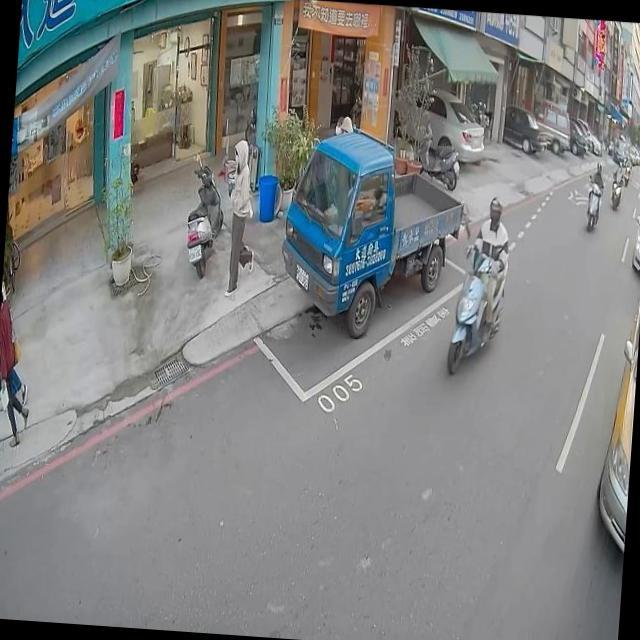person: (460, 194, 512, 344), (216, 132, 263, 293), (0, 237, 37, 430), (0, 283, 40, 454), (588, 160, 606, 190), (612, 153, 626, 190), (335, 114, 354, 136), (331, 114, 344, 138)
